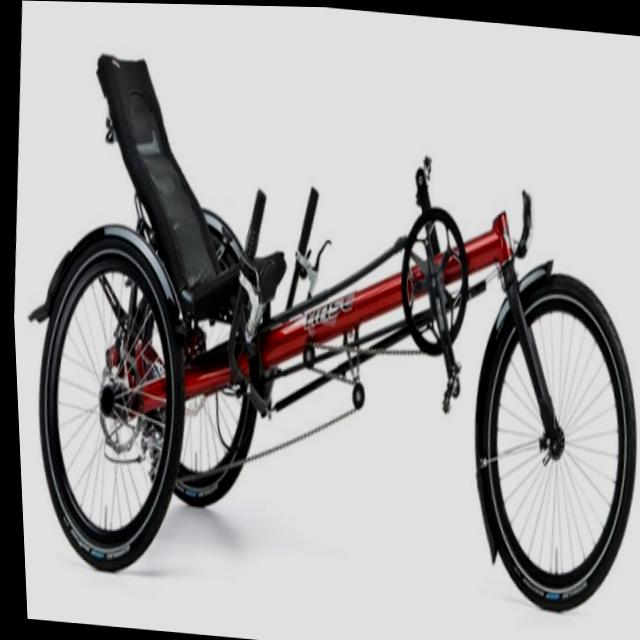recumbent-bike: (1, 40, 640, 624)
